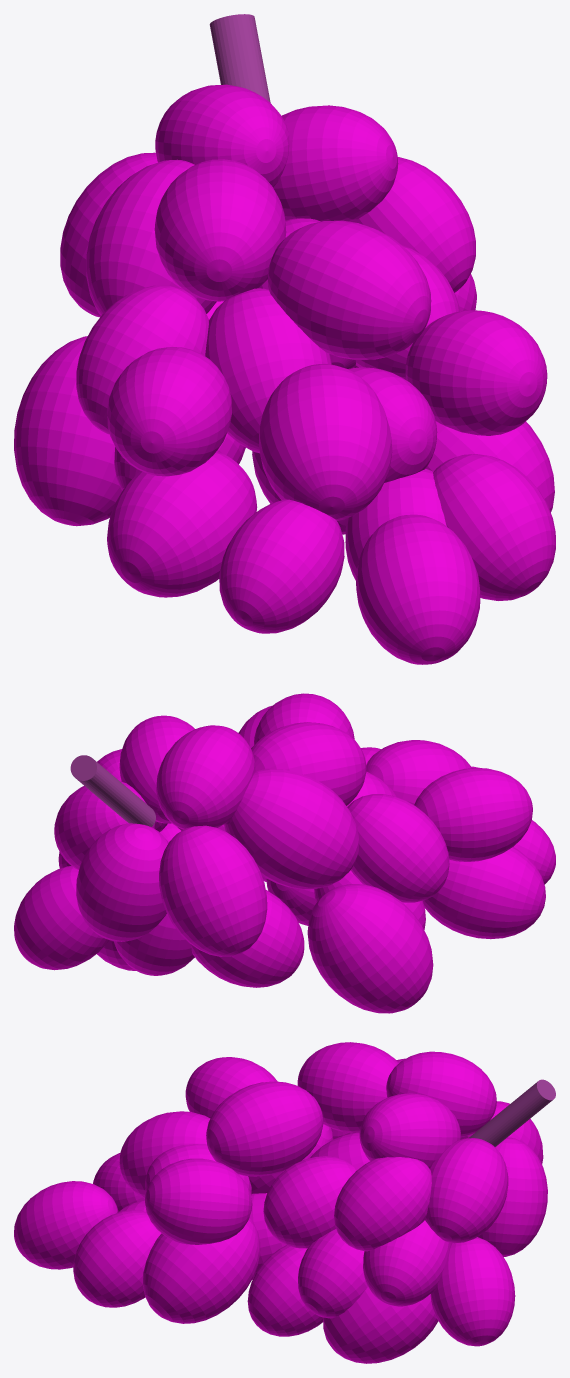
File: grapes.fbx
The picture shows the model from 3 angles, top to bottom: view 1: azimuth 30°, elevation 25°; view 2: azimuth 150°, elevation 25°; view 3: azimuth 270°, elevation 25°; orthographic projection. The views are drawn at different scales.
Parts seen in each view (by area): view 1: Cylinder; view 2: Cylinder; view 3: Cylinder.
Part boxes in pixels (x1=…): Cylinder: x1=14, y1=14, x2=555, y2=664; Cylinder: x1=14, y1=693, x2=555, y2=1013; Cylinder: x1=14, y1=1042, x2=555, y2=1363.
Bounding box in the file's own units: 781 × 567 × 1070.
